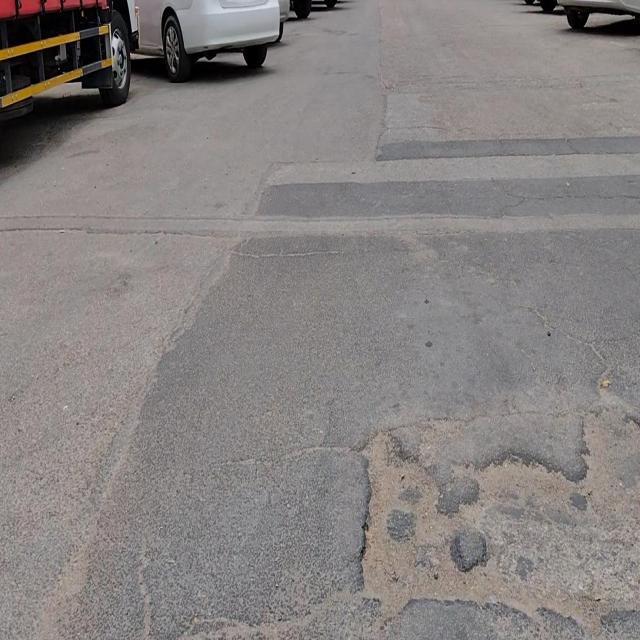Potholes: (465, 443, 608, 626), (354, 428, 469, 625)
